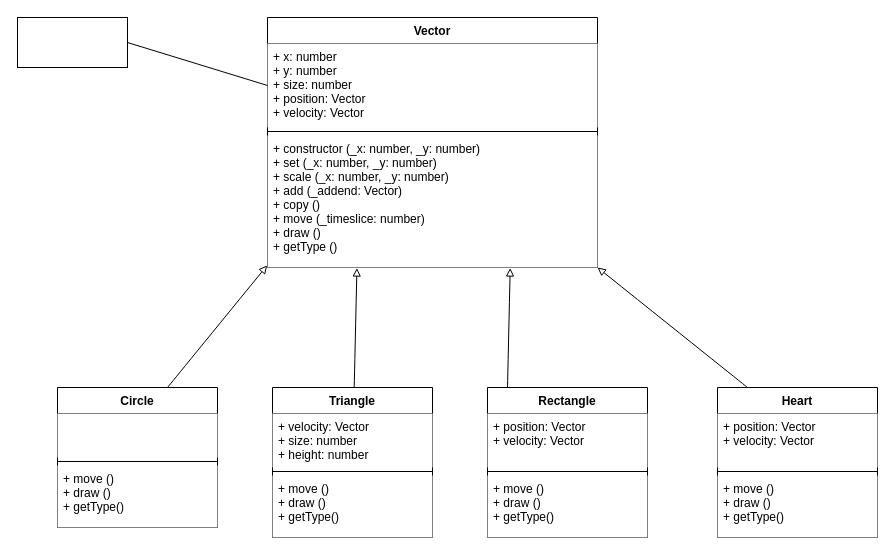
Image size: 895x558. Some labels were removed from this diagram. The shapes that lost their labels are listed below. From the top down, each one's centre as x and y in pixels, then its label:
At point 72,42: "crc2".
At point 137,435: "+ velocity: Vector + size: number".
